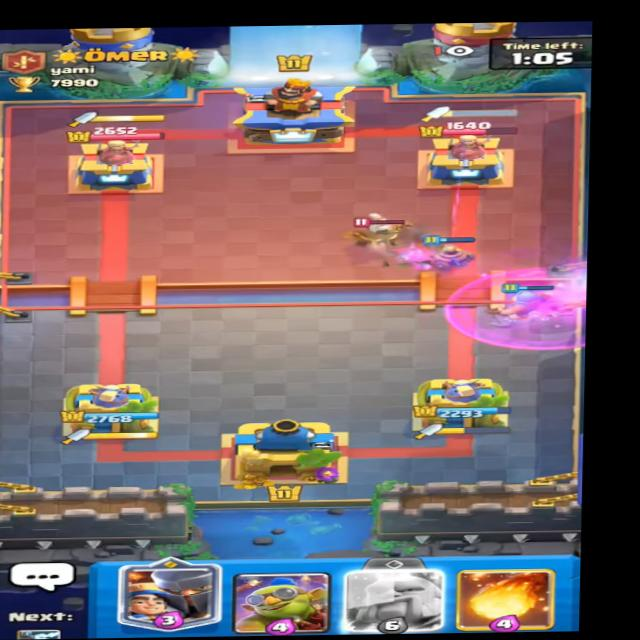monk: (339, 213, 412, 253)
rage: (444, 268, 601, 349)
